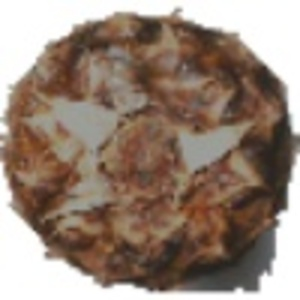abacaxi: (2, 8, 290, 283)
